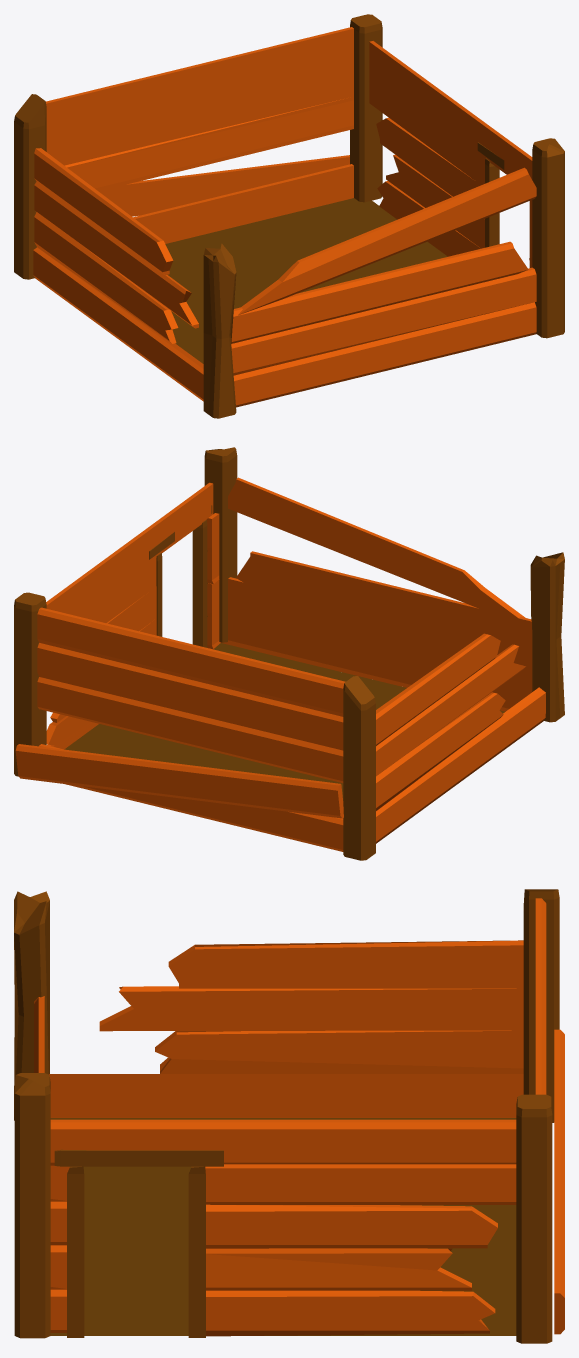
Rendered from abandonedBuilding3.fbx.
The picture shows the model from 3 angles, top to bottom: view 1: azimuth 30°, elevation 25°; view 2: azimuth 150°, elevation 25°; view 3: azimuth 270°, elevation 25°; orthographic projection. The views are drawn at different scales.
Parts seen in each view (by area): view 1: Building1; view 2: Building1; view 3: Building1.
Boxes of the visible parts, x1=… form: Building1: x1=14, y1=14, x2=564, y2=418; Building1: x1=14, y1=447, x2=564, y2=860; Building1: x1=14, y1=889, x2=564, y2=1343.
Bounding box in the file's own units: 2301 × 1167 × 2295.
